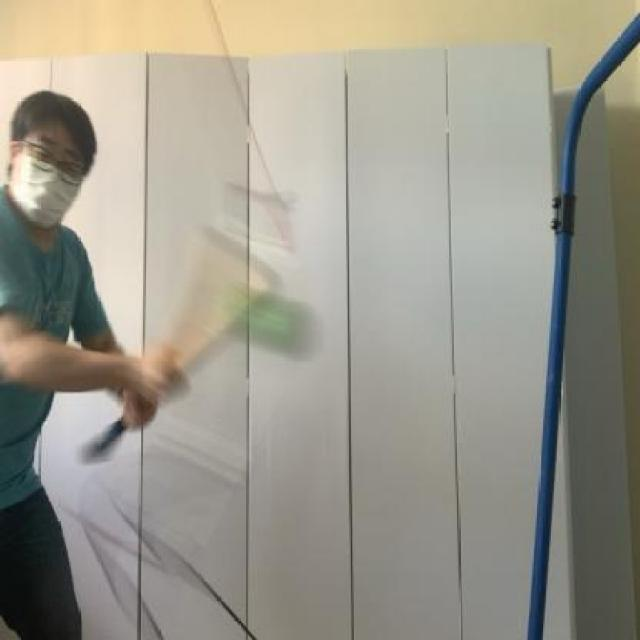baseball: (218, 288, 336, 364)
